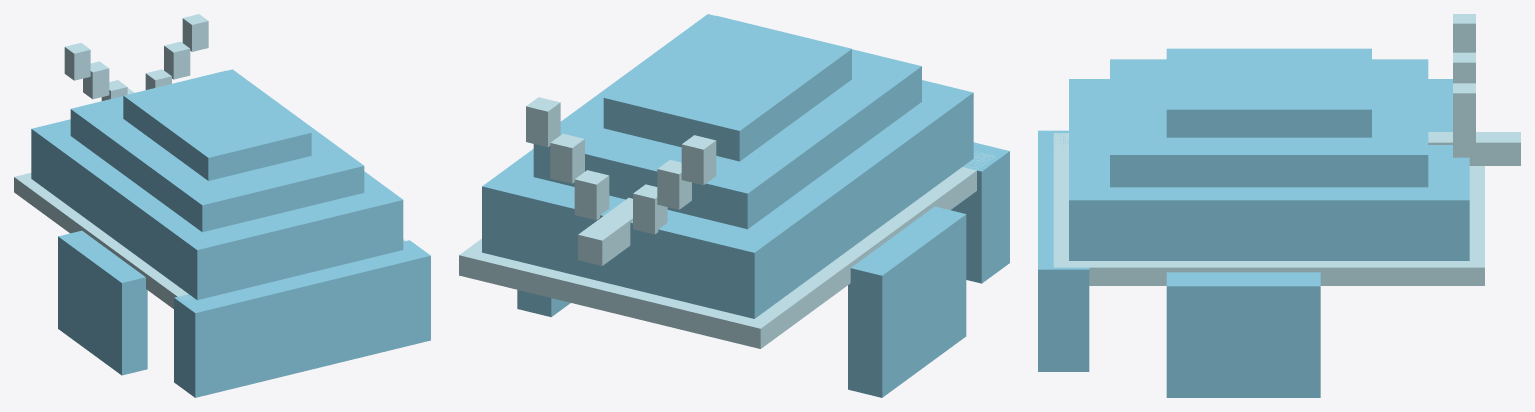
File: kabuto_espectral.glb
The picture shows the model from 3 angles, left to right: view 1: azimuth 30°, elevation 25°; view 2: azimuth 150°, elevation 25°; view 3: azimuth 270°, elevation 25°; orthographic projection. The views are drawn at different scales.
Parts seen in each view (by area): view 1: kabuto_espectral; view 2: kabuto_espectral; view 3: kabuto_espectral.
Boxes of the visible parts, bbox=[...] form: kabuto_espectral: bbox=[14, 14, 430, 397]; kabuto_espectral: bbox=[459, 14, 1009, 397]; kabuto_espectral: bbox=[1038, 14, 1520, 397].
Size of the model in its own units: 0.75 by 0.565 by 0.94.
